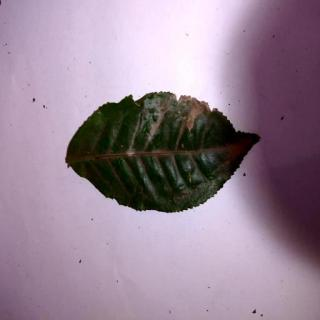Anthracnose: (67, 91, 264, 214)
